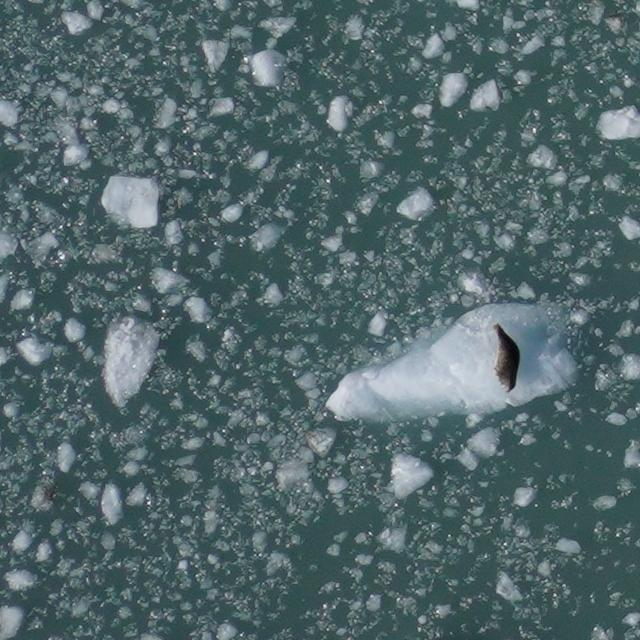seal: (488, 319, 523, 395)
